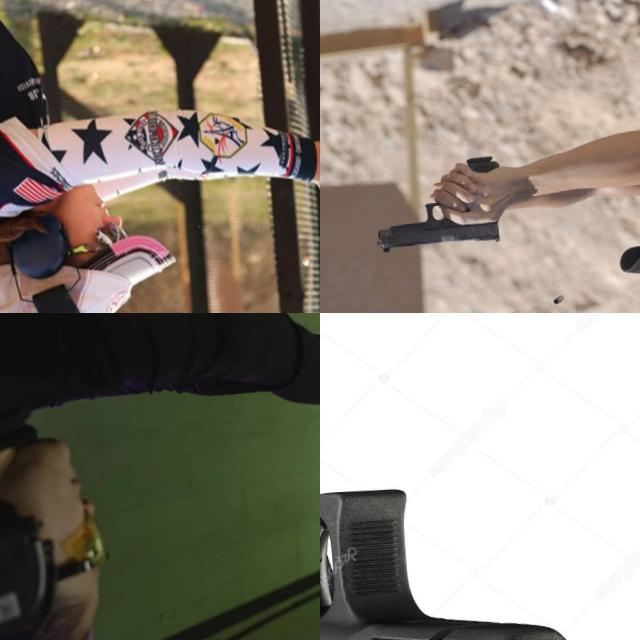handgun: (320, 313, 602, 640), (366, 152, 510, 256)
